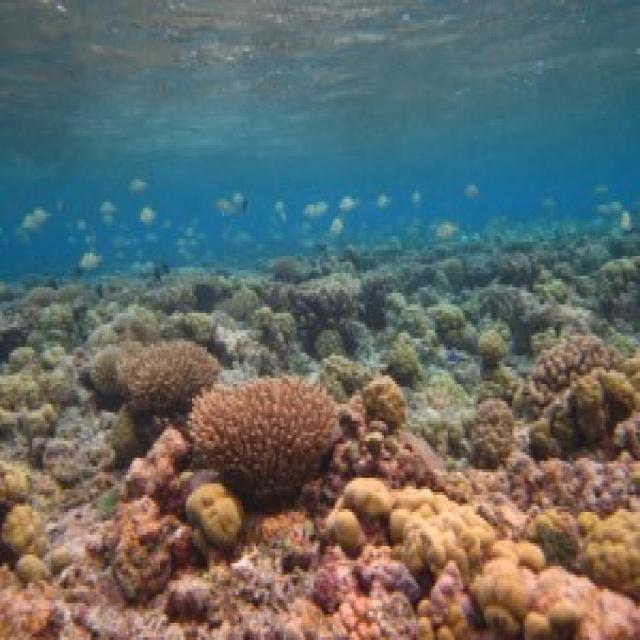Healthy: (327, 479, 639, 638), (193, 379, 338, 499), (330, 376, 443, 496), (468, 453, 639, 516), (528, 513, 639, 598), (532, 371, 639, 456), (118, 342, 219, 416), (112, 499, 182, 598), (532, 334, 618, 391), (129, 428, 189, 507), (1, 348, 78, 408), (1, 587, 88, 638), (1, 556, 51, 638), (187, 485, 242, 547), (472, 399, 515, 467), (3, 504, 42, 553), (88, 351, 127, 399), (1, 462, 29, 502), (20, 405, 56, 436)
